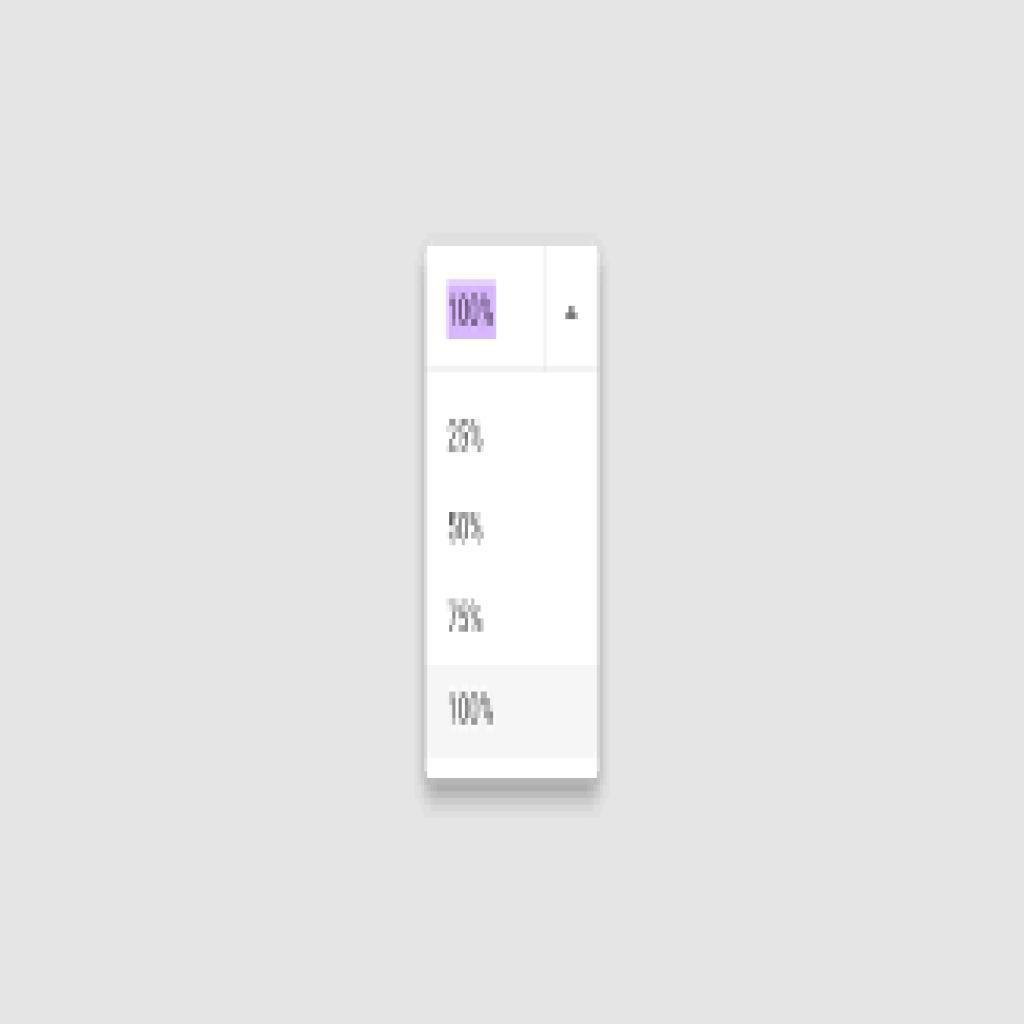dropdown: (428, 247, 600, 375)
